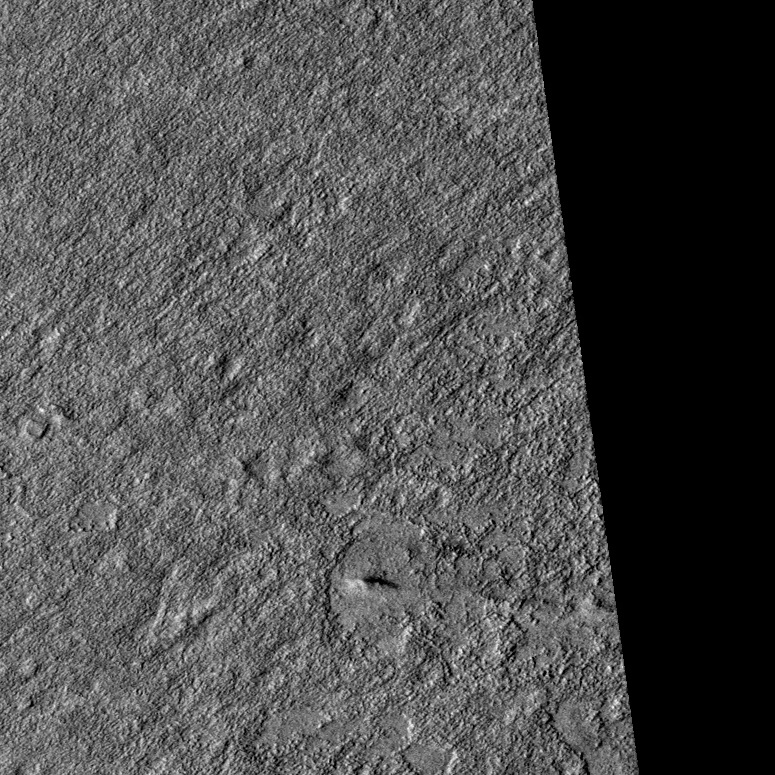dust_devil: (344, 575, 401, 593)
